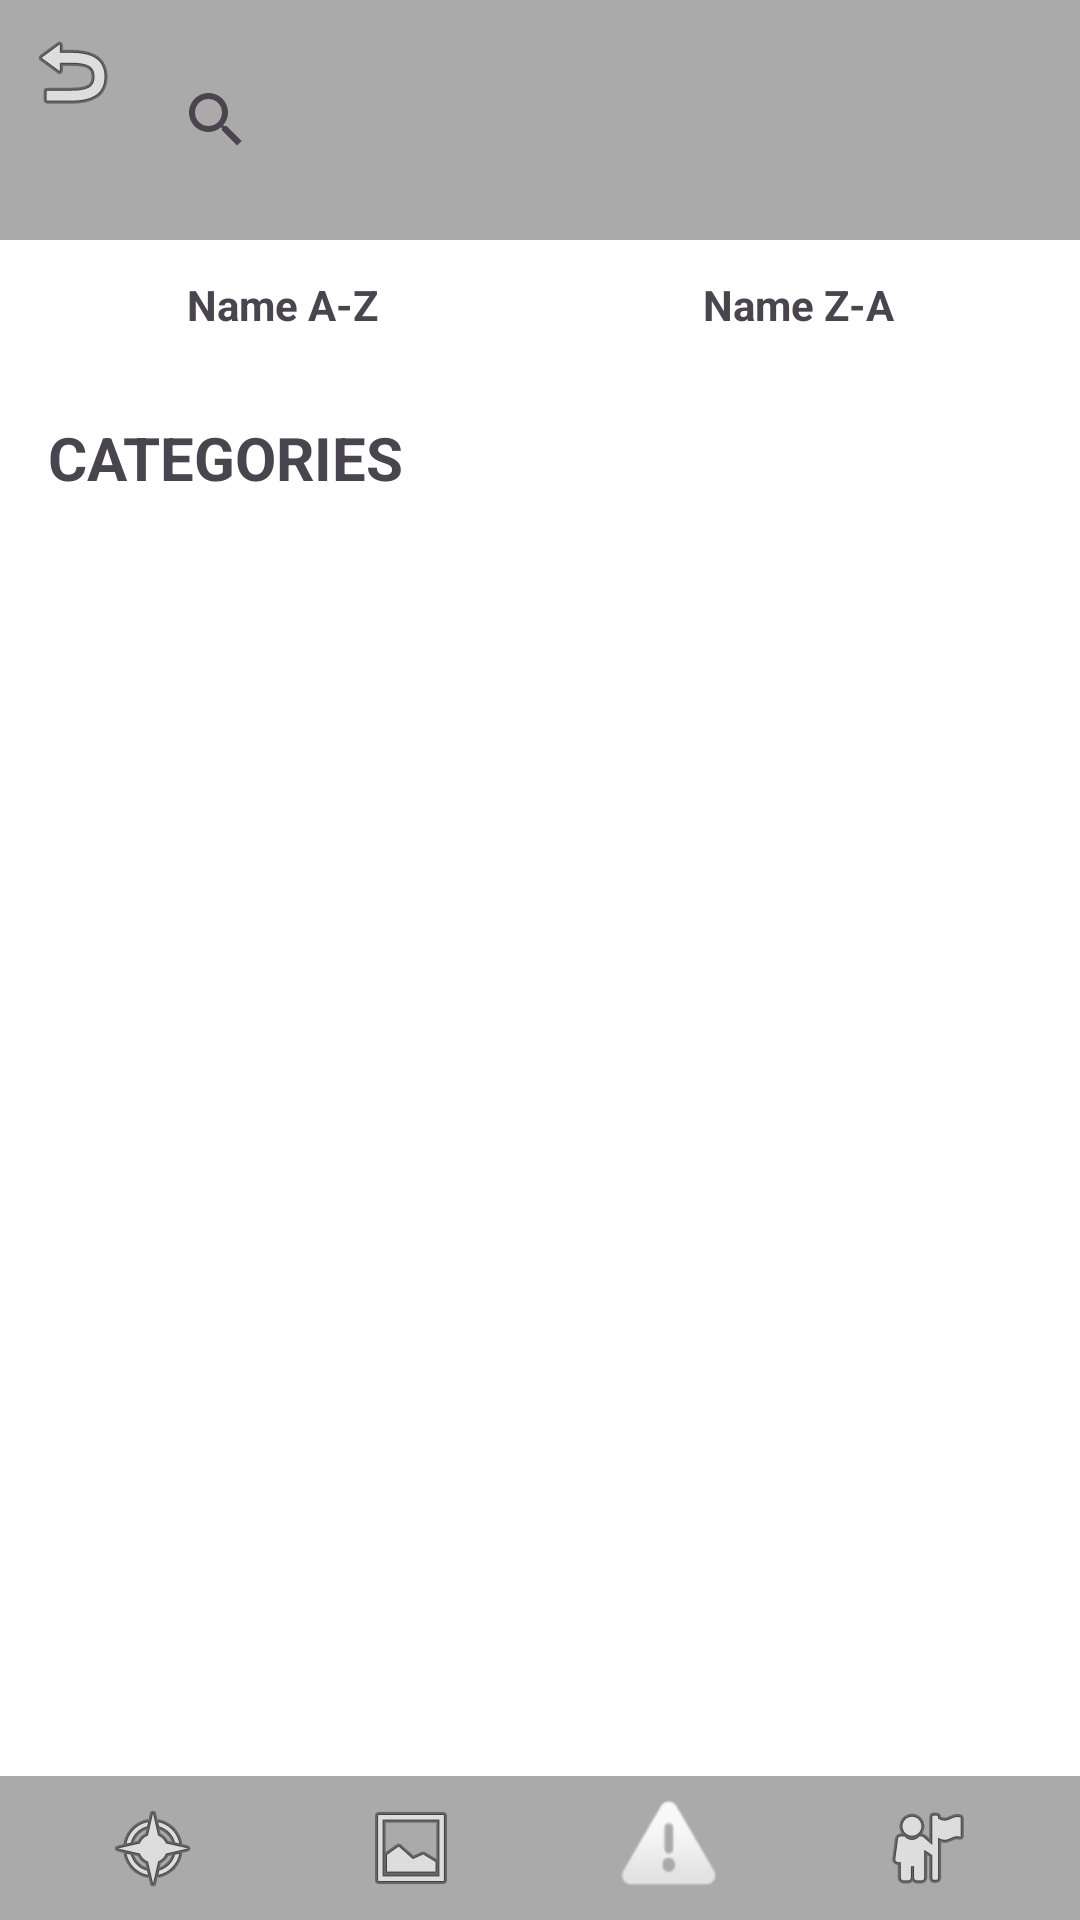

Screen size 1080 x 1920. Icon name, then its center in pixels as [x,y]:
Back: [73,72]
Profile: [928,1848]
